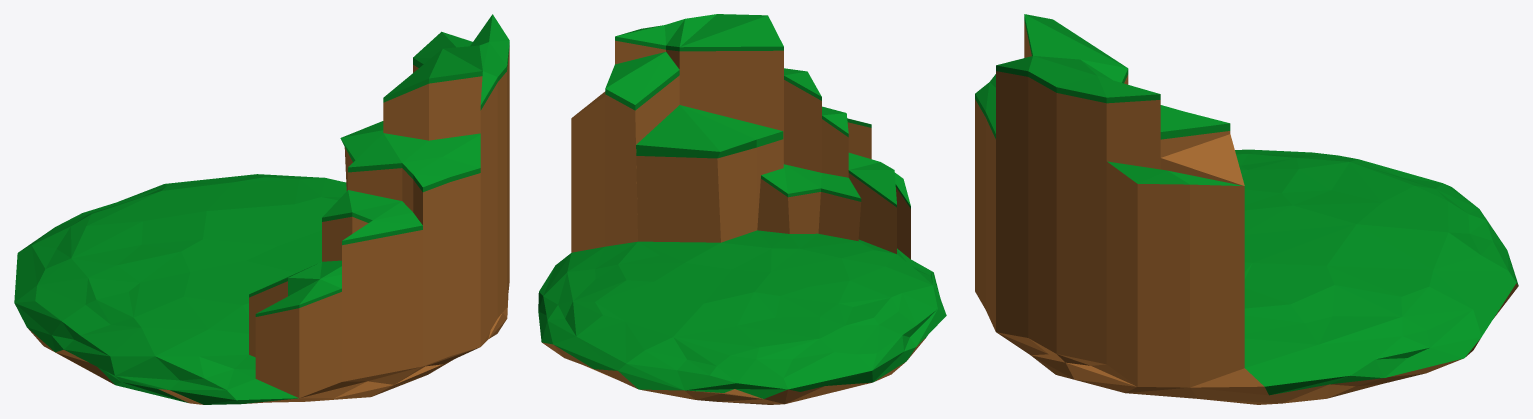
File: bigplatformv2.1.fbx
The picture shows the model from 3 angles, left to right: view 1: azimuth 30°, elevation 25°; view 2: azimuth 150°, elevation 25°; view 3: azimuth 270°, elevation 25°; orthographic projection. The views are drawn at different scales.
Visible parts, largest first — view 1: BigPlatform1; view 2: BigPlatform1; view 3: BigPlatform1.
Boxes of the visible parts, bbox=[...] form: BigPlatform1: bbox=[14, 14, 509, 404]; BigPlatform1: bbox=[538, 14, 946, 404]; BigPlatform1: bbox=[975, 14, 1518, 404].
Size of the model in its own units: 1200 by 843 by 1203.
